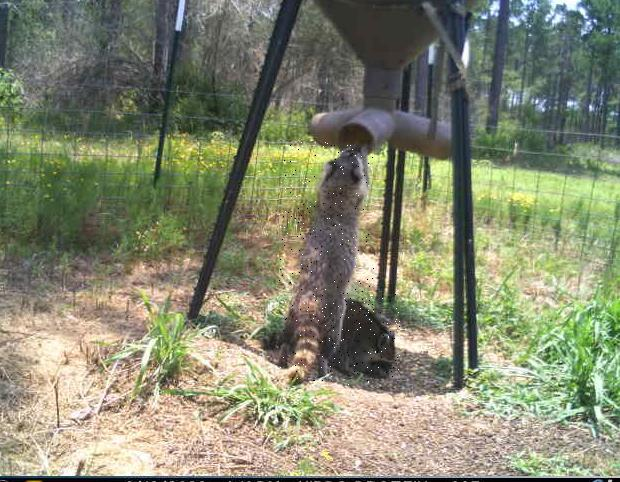Raccoon: (280, 142, 375, 388), (313, 295, 400, 378)
